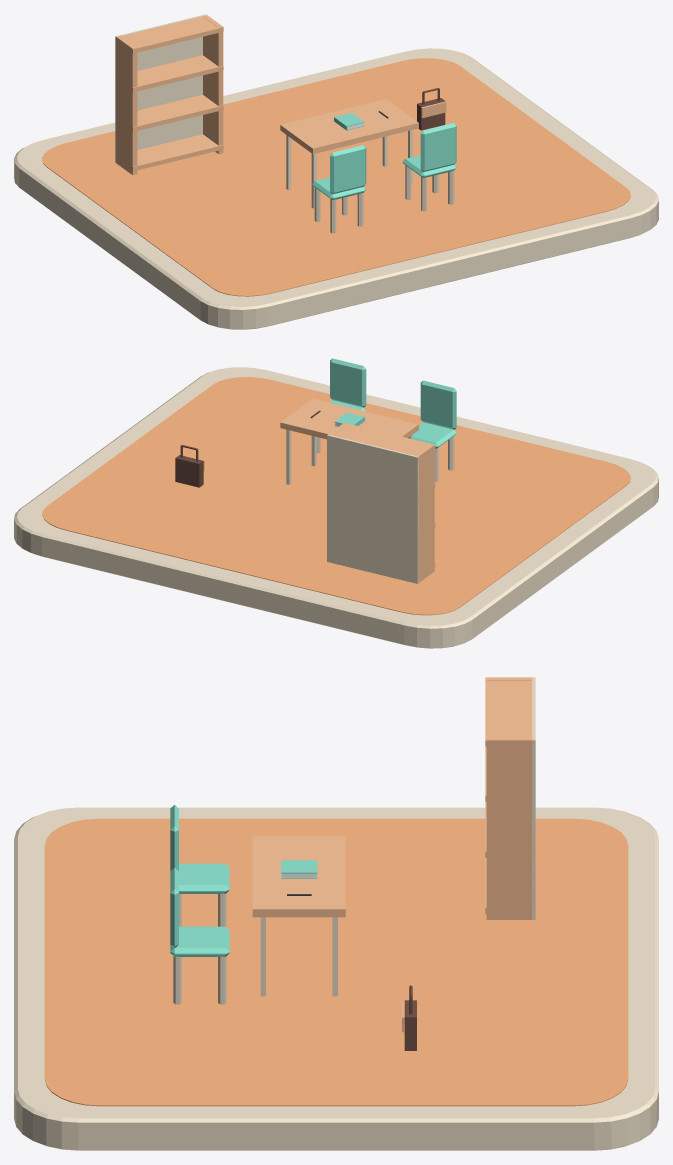
Rendered from room.fbx.
3 renders of one model, top to bottom at view 1: azimuth 30°, elevation 25°; view 2: azimuth 150°, elevation 25°; view 3: azimuth 270°, elevation 25°, orthographic. The views are drawn at different scales.
Visible parts, largest first — view 1: COM-02 Floor Surface, COM-01 Rounded Base Direct, Top, Back, Side, Side.001, Shelf.003, Shelf, Shelf.001, Shelf.002, Backrest, Backrest.001 (+3 smaller); view 2: COM-02 Floor Surface, COM-01 Rounded Base Direct, Back, Top, Side, Backrest, Backrest.001, Shelf.003, Bag, Seat; view 3: COM-02 Floor Surface, COM-01 Rounded Base Direct, Top, Side.001, Shelf.003, Seat.001, Seat, Back, Bag, Backrest.001.
Part boxes in pixels (<box>): COM-02 Floor Surface: <box>42,58,630,296</box>; COM-01 Rounded Base Direct: <box>14,48,658,329</box>; Top: <box>280,99,418,208</box>; Back: <box>115,14,206,162</box>; Side: <box>116,35,137,175</box>; Side.001: <box>203,15,223,154</box>; Shelf.003: <box>122,16,223,53</box>; Shelf: <box>120,134,223,171</box>; Shelf.001: <box>116,94,223,131</box>; Shelf.002: <box>115,55,223,92</box>; Backrest: <box>330,145,366,194</box>; Backrest.001: <box>420,123,456,172</box>; COM-02 Floor Surface: <box>42,377,630,615</box>; COM-01 Rounded Base Direct: <box>14,367,658,648</box>; Back: <box>327,434,418,583</box>; Top: <box>280,398,418,484</box>; Side: <box>414,444,434,582</box>; Backrest: <box>420,380,456,429</box>; Backrest.001: <box>330,358,366,407</box>; Shelf.003: <box>333,422,435,461</box>; Bag: <box>175,445,204,487</box>; Seat: <box>412,422,456,448</box>; COM-02 Floor Surface: <box>44,818,628,1106</box>; COM-01 Rounded Base Direct: <box>14,807,658,1150</box>; Top: <box>252,836,345,996</box>; Side.001: <box>486,737,533,919</box>; Shelf.003: <box>485,677,534,746</box>; Seat.001: <box>170,926,229,956</box>; Seat: <box>179,863,229,893</box>; Back: <box>532,677,535,919</box>; Bag: <box>402,985,416,1050</box>; Backrest.001: <box>170,867,178,948</box>.
Size of the model in its own units: 600 by 190 by 520.
